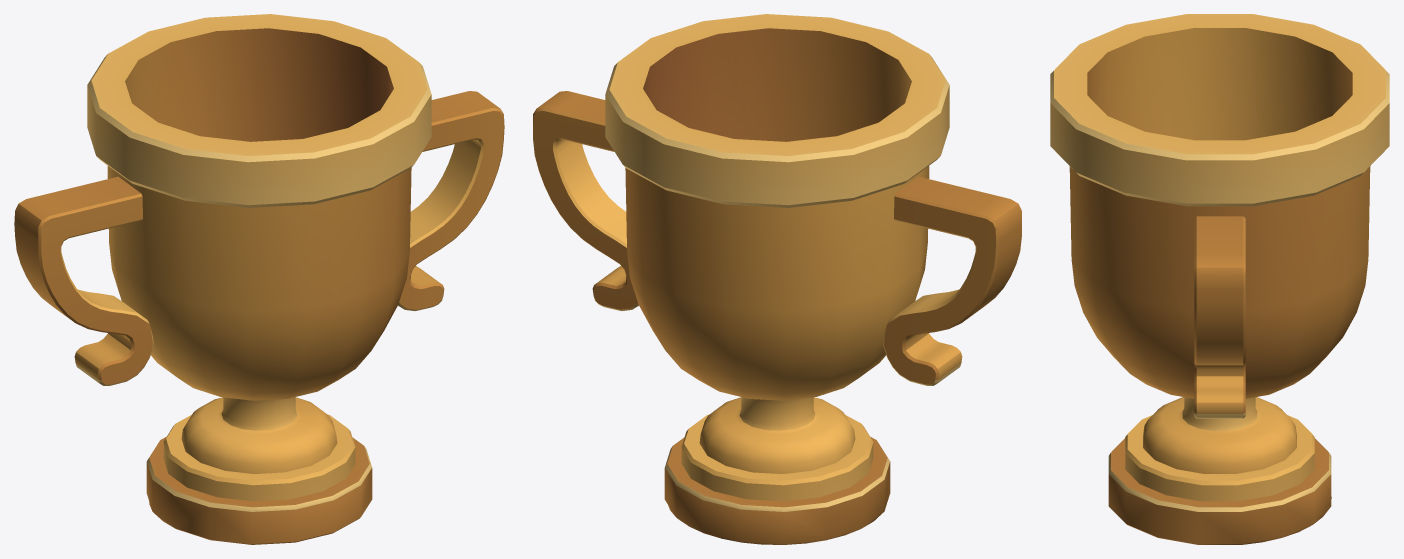
The model's file is Cup.fbx.
The picture shows the model from 3 angles, left to right: view 1: azimuth 30°, elevation 25°; view 2: azimuth 150°, elevation 25°; view 3: azimuth 270°, elevation 25°; orthographic projection.
Parts seen in each view (by area): view 1: Cup; view 2: Cup; view 3: Cup.
Part boxes in pixels (box(x1,y1,x2,y2)): Cup: box(14, 14, 504, 544); Cup: box(533, 14, 1021, 544); Cup: box(1050, 14, 1389, 544).
Size of the model in its own units: 96.41 by 81.48 by 60.46.
